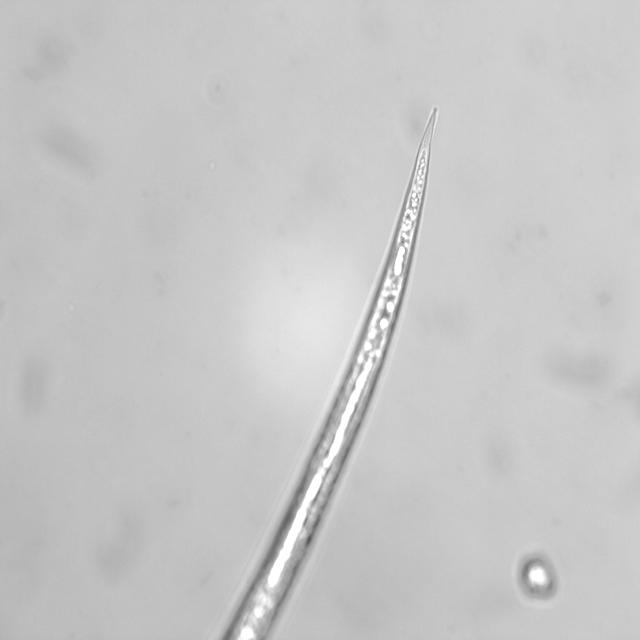Meloidogyne: (304, 98, 450, 469)
